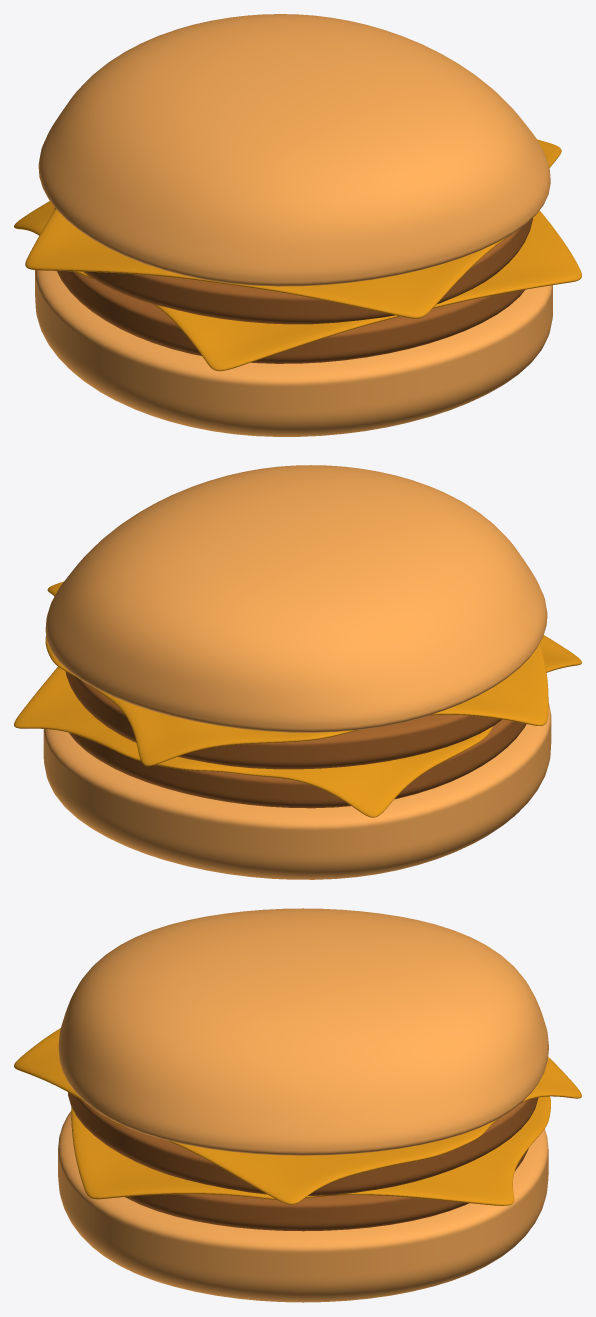
Rendered from doublecheese.glb.
The picture shows the model from 3 angles, top to bottom: view 1: azimuth 30°, elevation 25°; view 2: azimuth 150°, elevation 25°; view 3: azimuth 270°, elevation 25°; orthographic projection. The views are drawn at different scales.
Visible parts, largest first — view 1: topBun.001, bottomBun.001, Cheeze.002, Steack.001, Cheeze.001, Steack.002; view 2: topBun.001, bottomBun.001, Cheeze.002, Steack.002, Cheeze.001, Steack.001; view 3: topBun.001, bottomBun.001, Cheeze.002, Cheeze.001, Steack.002, Steack.001.
Part boxes in pixels (<box>): topBun.001: <box>38,14,550,286</box>; bottomBun.001: <box>35,270,552,436</box>; Cheeze.002: <box>14,201,581,371</box>; Steack.001: <box>57,271,524,363</box>; Cheeze.001: <box>25,139,561,318</box>; Steack.002: <box>54,207,532,324</box>; topBun.001: <box>45,465,547,732</box>; bottomBun.001: <box>43,703,551,879</box>; Cheeze.002: <box>14,635,581,817</box>; Steack.002: <box>65,671,501,769</box>; Cheeze.001: <box>45,581,548,766</box>; Steack.001: <box>69,719,526,808</box>; topBun.001: <box>58,908,548,1155</box>; bottomBun.001: <box>58,1111,548,1302</box>; Cheeze.002: <box>71,1096,550,1205</box>; Cheeze.001: <box>14,1028,581,1204</box>; Steack.002: <box>68,1092,538,1195</box>; Steack.001: <box>125,1148,528,1231</box>.
Size of the model in its own units: 10.79 by 5.81 by 10.56.
